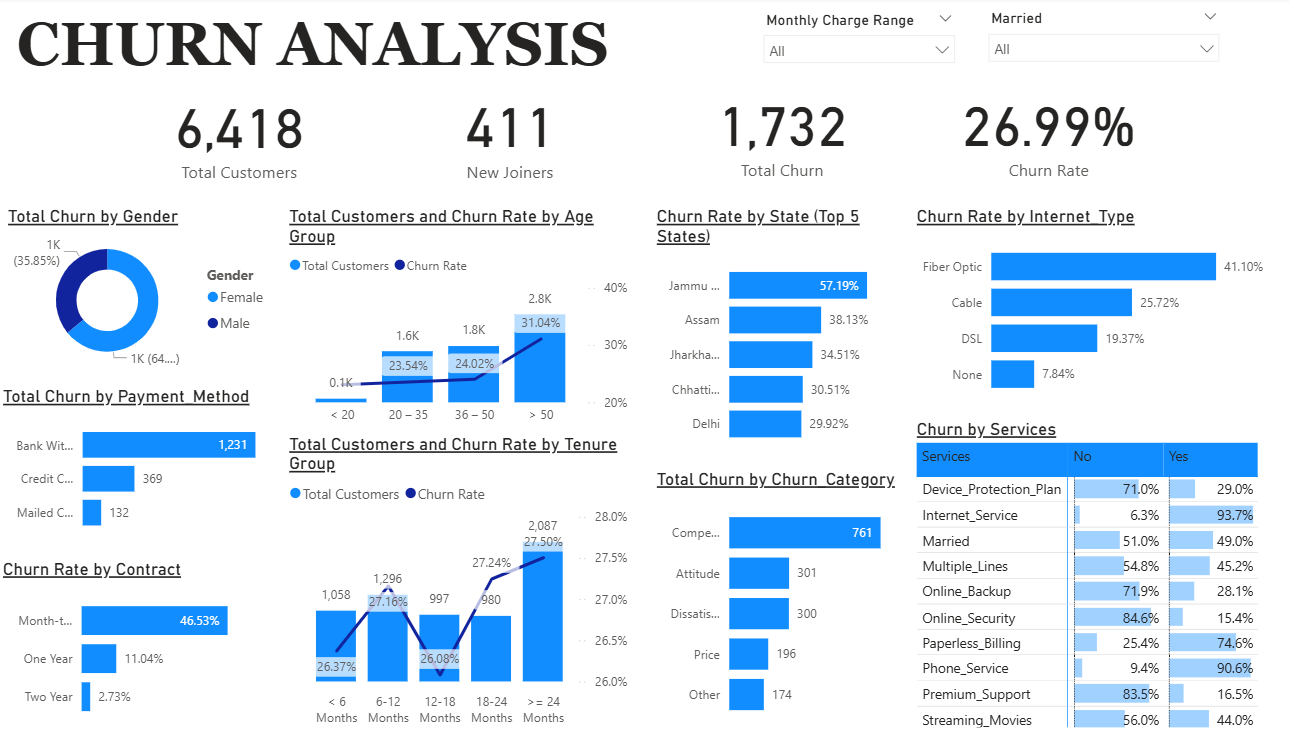

The page's visual inventory and layout, read from the dashboard file:
{"tool":"powerbi","page":{"name":"Summary","canvas":[1280,720],"ordinal":0},"visuals":[{"type":"card","fields":{"Values":["tbl_Measures.Total Customers"]},"box":[140,78.8,193.8,108.8],"z":0},{"type":"card","fields":{"Values":["tbl_Measures.New Joiners"]},"box":[403.8,78.8,195,107.5],"z":1000},{"type":"card","fields":{"Values":["tbl_Measures.Total Churn"]},"box":[678.8,78.8,177.5,105],"z":2000},{"type":"card","fields":{"Values":["tbl_Measures.Churn Rate"]},"box":[925,78.8,207.5,105],"z":3000},{"type":"clusteredBarChart","fields":{"Category":["prod_Churn.Payment_Method"],"Y":["tbl_Measures.Total Churn"]},"box":[0,380.3,280,156.5],"z":6000},{"type":"clusteredBarChart","fields":{"Y":["tbl_Measures.Churn Rate"],"Category":["prod_Churn.Contract"]},"box":[0,549.1,275.1,171.2],"z":7000},{"type":"lineStackedColumnComboChart","fields":{"Category":["mapping_TenureGrp.Tenure Group"],"Y":["tbl_Measures.Total Customers"],"Y2":["tbl_Measures.Churn Rate"]},"box":[280,426.2,341.2,293.8],"z":8000},{"type":"clusteredBarChart","title":"Churn Rate by State (Top 5 States) ","fields":{"Category":["prod_Churn.State"],"Y":["tbl_Measures.Churn Rate"]},"box":[640,203.8,253.8,246.2],"z":9000},{"type":"clusteredBarChart","fields":{"Y":["tbl_Measures.Total Churn"],"Category":["prod_Churn.Churn_Category"]},"box":[640,461.2,253.8,258.8],"z":10000},{"type":"clusteredBarChart","fields":{"Category":["prod_Churn.Internet_Type"],"Y":["tbl_Measures.Churn Rate"]},"box":[894.3,204.3,357.1,198.6],"z":11000},{"type":"pivotTable","title":"Churn by Services","fields":{"Rows":["prod_Services.Services"],"Columns":["prod_Services.Status"],"Values":["Sum(prod_Services.Churn Status)"]},"box":[893.8,412.5,386.2,307.5],"z":12000},{"type":"slicer","fields":{"Values":["prod_Churn.Monthly Charge Status"]},"box":[738.8,8.8,207.5,66.2],"z":13000},{"type":"slicer","fields":{"Values":["prod_Churn.Married"]},"box":[958.8,7.5,246.2,68.8],"z":14000},{"type":"textbox","box":[13.5,8.6,725.1,89.3],"z":14001},{"type":"donutChart","fields":{"Y":["tbl_Measures.Total Churn"],"Category":["prod_Churn.Gender"]},"box":[4.9,204.2,270.2,166.3],"z":14003},{"type":"lineStackedColumnComboChart","fields":{"Y":["tbl_Measures.Total Customers"],"Category":["mapping_AgeGrp.Age Group"],"Y2":["tbl_Measures.Churn Rate"]},"box":[280,203.8,341.2,222.5],"z":14004}]}

Visuals, with their boxes in screenshot pixels (x1, y1, x2, y2), scaled from the page's 1280x720 canvas onto the 1289x730 screenshot:
card - tbl_Measures.Total Customers: l=141, t=80, r=336, b=190
card - tbl_Measures.New Joiners: l=407, t=80, r=603, b=189
card - tbl_Measures.Total Churn: l=684, t=80, r=862, b=186
card - tbl_Measures.Churn Rate: l=932, t=80, r=1140, b=186
clusteredBarChart - prod_Churn.Payment_Method x tbl_Measures.Total Churn: l=0, t=386, r=282, b=544
clusteredBarChart - tbl_Measures.Churn Rate x prod_Churn.Contract: l=0, t=557, r=277, b=729
lineStackedColumnComboChart - mapping_TenureGrp.Tenure Group x tbl_Measures.Total Customers: l=282, t=432, r=626, b=729
"Churn Rate by State (Top 5 States) " clusteredBarChart: l=644, t=207, r=900, b=456
clusteredBarChart - tbl_Measures.Total Churn x prod_Churn.Churn_Category: l=644, t=468, r=900, b=729
clusteredBarChart - prod_Churn.Internet_Type x tbl_Measures.Churn Rate: l=901, t=207, r=1260, b=408
"Churn by Services" pivotTable: l=900, t=418, r=1288, b=729
slicer - prod_Churn.Monthly Charge Status: l=744, t=9, r=953, b=76
slicer - prod_Churn.Married: l=966, t=8, r=1213, b=77
textbox: l=14, t=9, r=744, b=99
donutChart - tbl_Measures.Total Churn x prod_Churn.Gender: l=5, t=207, r=277, b=376
lineStackedColumnComboChart - tbl_Measures.Total Customers x mapping_AgeGrp.Age Group: l=282, t=207, r=626, b=432
